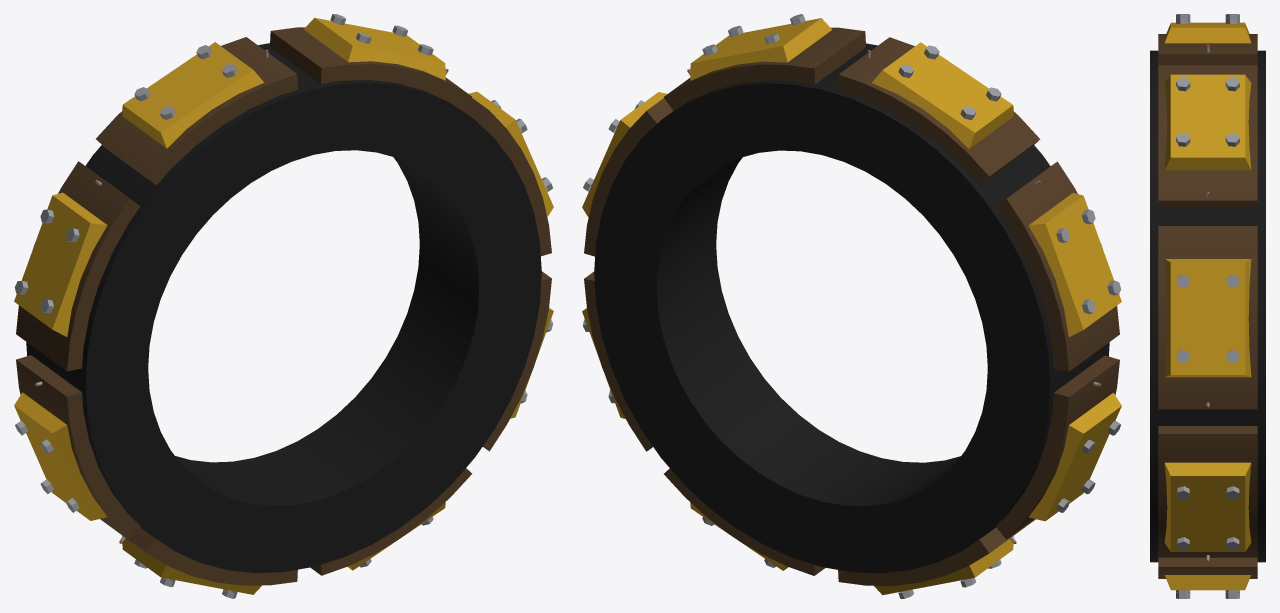
Rendered from kt1_coil.obj.
3 views of the same model, side by side, from view 1: azimuth 30°, elevation 25°; view 2: azimuth 150°, elevation 25°; view 3: azimuth 270°, elevation 25° (orthographic). The views are drawn at different scales.
Visible parts, largest first — view 1: kt1_coil; view 2: kt1_coil; view 3: kt1_coil.
Part boxes in pixels (<box>): kt1_coil: <box>14,14,553,598</box>; kt1_coil: <box>582,14,1121,598</box>; kt1_coil: <box>1150,14,1265,598</box>.
Bounding box in the file's own units: 2.77 × 2.77 × 0.56.
